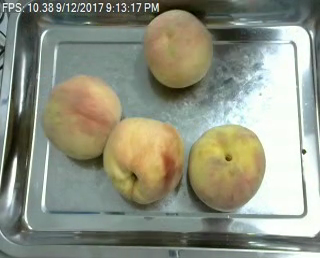Peach: (101, 117, 185, 204), (42, 76, 122, 162), (188, 124, 266, 211), (143, 8, 213, 88)
